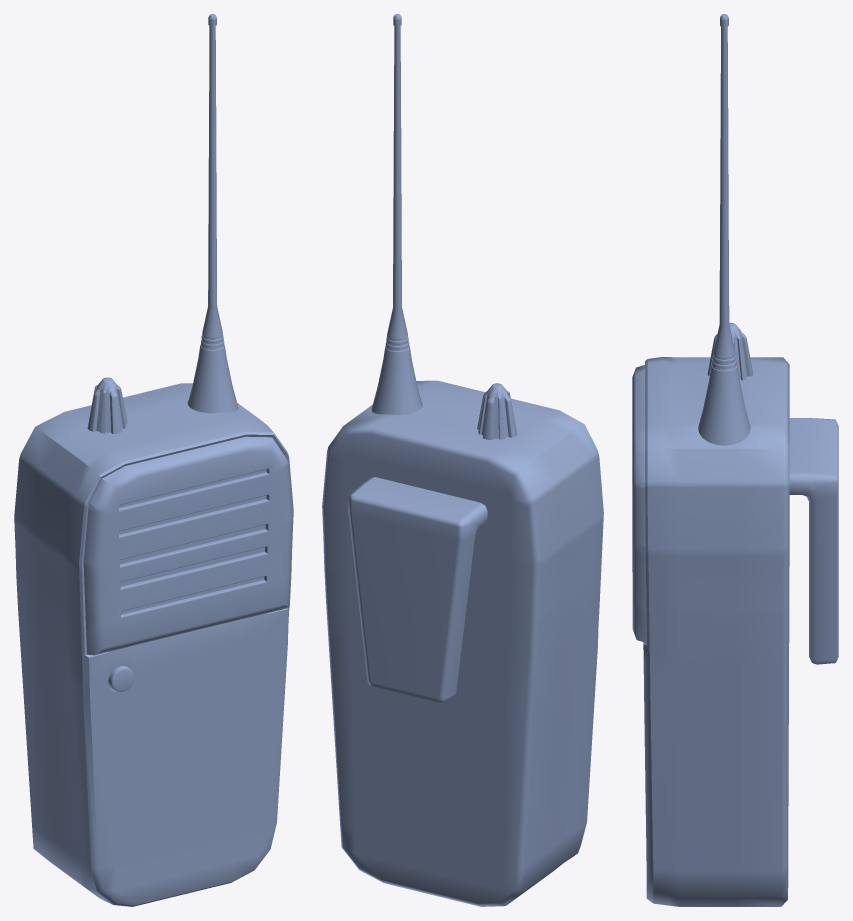
The model's file is WalkieTalkie01.fbx.
3 views of the same model, side by side, from view 1: azimuth 30°, elevation 25°; view 2: azimuth 150°, elevation 25°; view 3: azimuth 270°, elevation 25° (orthographic). The views are drawn at different scales.
Visible parts, largest first — view 1: WalkieTalkie01_Modelling_v001:WalkieTalkie01_Modelling_v001:; view 2: WalkieTalkie01_Modelling_v001:WalkieTalkie01_Modelling_v001:; view 3: WalkieTalkie01_Modelling_v001:WalkieTalkie01_Modelling_v001:.
Boxes of the visible parts, bbox=[...] form: WalkieTalkie01_Modelling_v001:WalkieTalkie01_Modelling_v001:: bbox=[14, 14, 293, 906]; WalkieTalkie01_Modelling_v001:WalkieTalkie01_Modelling_v001:: bbox=[322, 14, 603, 906]; WalkieTalkie01_Modelling_v001:WalkieTalkie01_Modelling_v001:: bbox=[632, 14, 838, 906].
Size of the model in its own units: 9.04 by 33.25 by 6.97.
Materials: 1 (1 with a texture image).
